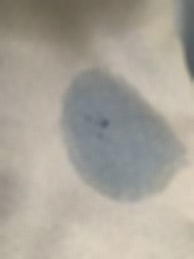ink: (61, 76, 164, 204)
